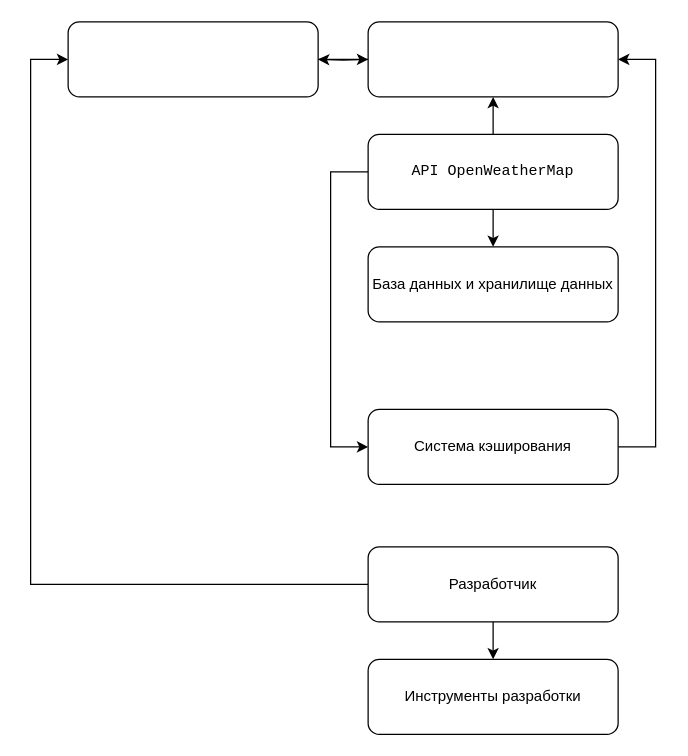
This 688x756 diagram has some shape labels left out. The shapes that lost their labels are listed below. From the top down, each one's centre as x and y in pixels, then its label:
At (192,59): "Пользовательский интерфейс".
At (492,59): "Серверная часть".
